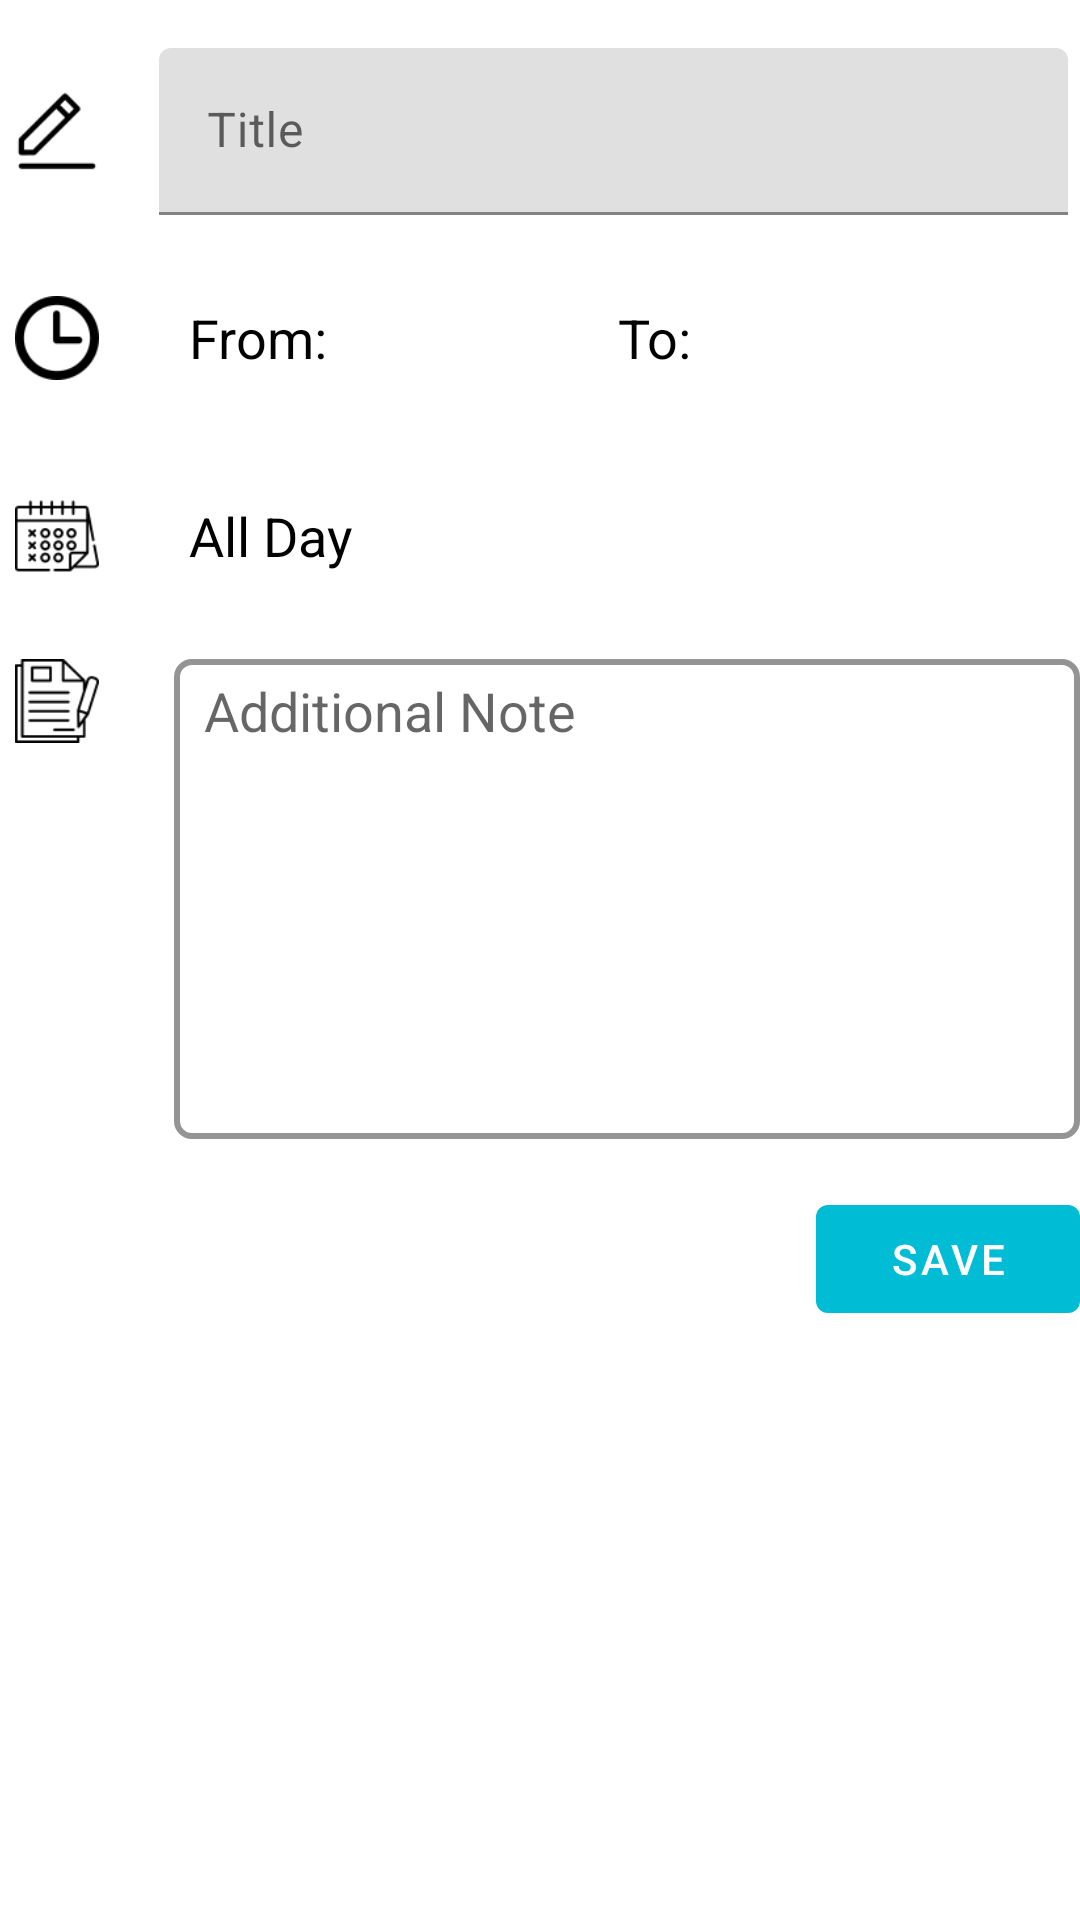

Where to tap for icons on this 1080w x 1920h app screen, as (x,y):
adding addtional note: (57,701)
adding ed time: (57,338)
